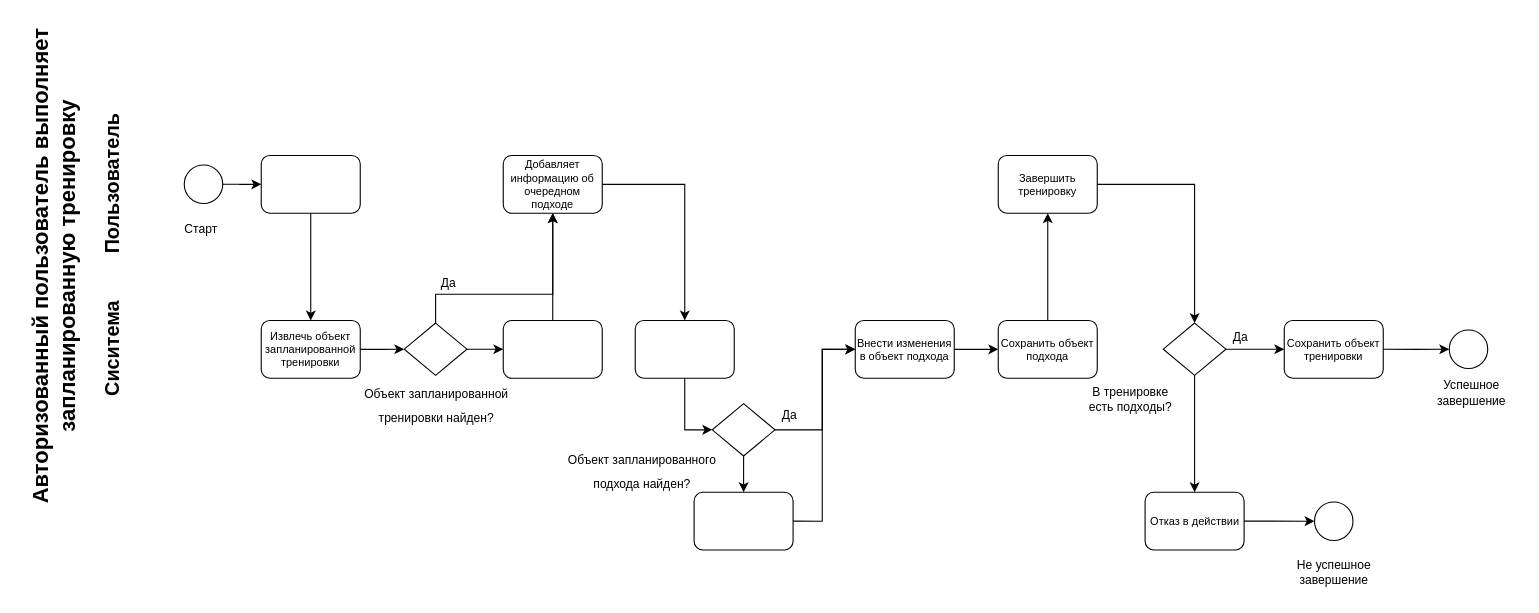
The diagram is 1539 pixels wide and 613 high, and some of its shapes have lost their labels. Here are the shapes that lost their labels. From the top down, the box of each, then its label:
(260, 154, 360, 213): Начать выполнение запланированной тренировки
(502, 319, 602, 378): Создать пустой объект тренировки
(634, 319, 734, 378): Извлечь объект запланированного подхода
(693, 491, 793, 550): Создает пустой объект подхода
